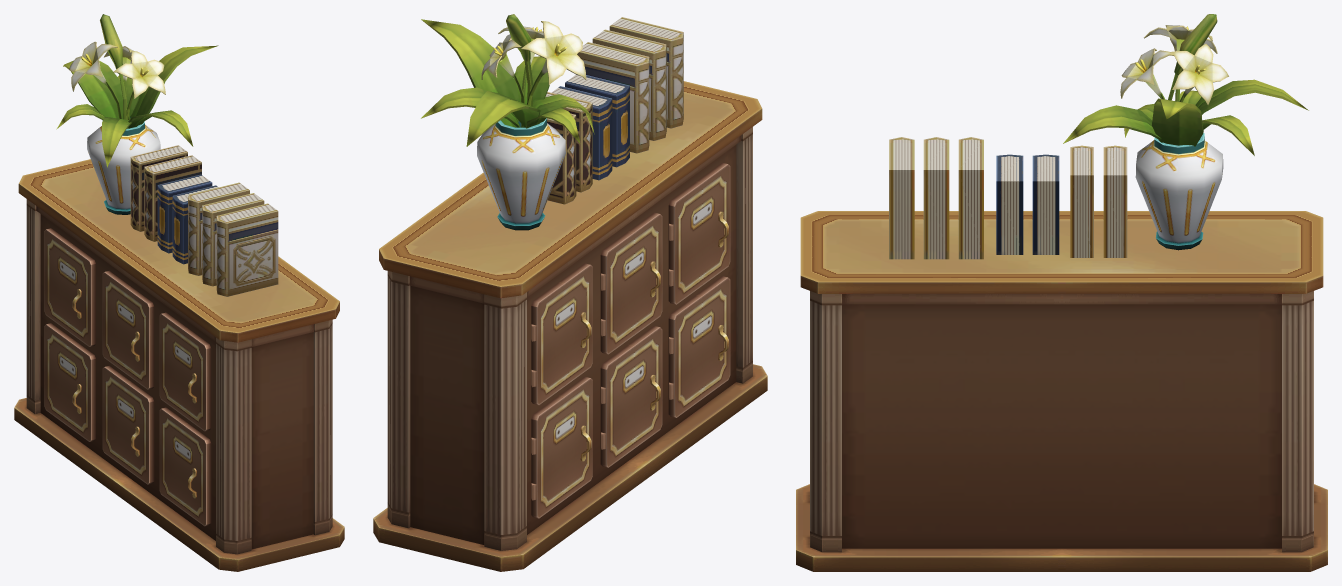
Rendered from my_trinityclassroom_01_cabinet_02.glb.
3 views of the same model, side by side, from view 1: azimuth 30°, elevation 25°; view 2: azimuth 150°, elevation 25°; view 3: azimuth 270°, elevation 25° (orthographic). The views are drawn at different scales.
Visible parts, largest first — view 1: my_trinityclassroom_01_cabinet_02; view 2: my_trinityclassroom_01_cabinet_02; view 3: my_trinityclassroom_01_cabinet_02.
Part boxes in pixels (x1,y1,x2,y2): my_trinityclassroom_01_cabinet_02: (14, 14, 344, 571); my_trinityclassroom_01_cabinet_02: (373, 14, 767, 571); my_trinityclassroom_01_cabinet_02: (796, 14, 1327, 571).
Bounding box in the file's own units: 0.00448 × 0.0122 × 0.0115.
Materials: 2 (2 with a texture image).
